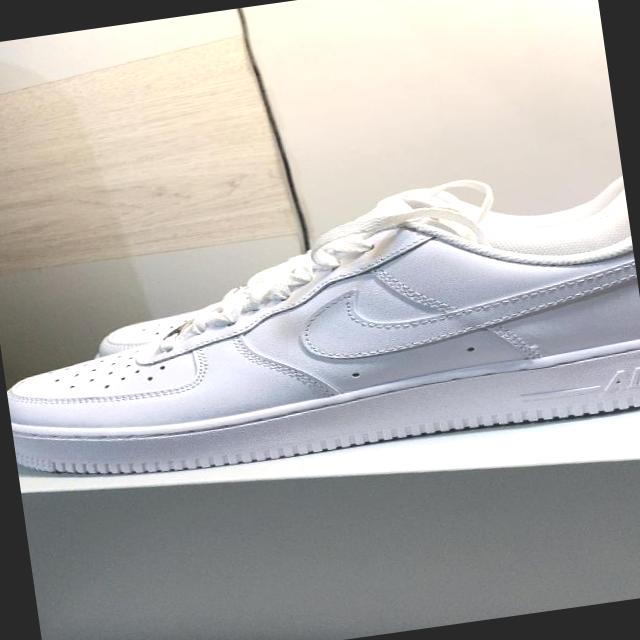nike_original_airforce: (0, 190, 640, 499)
